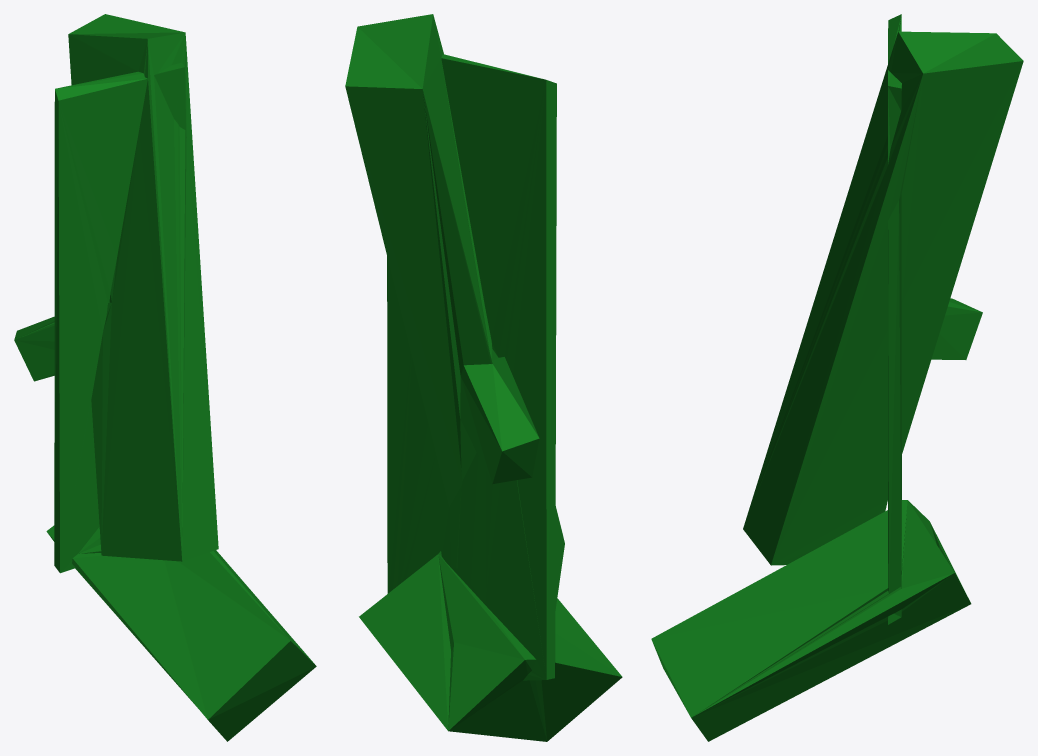
3 renders of one model, left to right at view 1: azimuth 30°, elevation 25°; view 2: azimuth 150°, elevation 25°; view 3: azimuth 270°, elevation 25°, orthographic. The views are drawn at different scales.
Parts seen in each view (by area): view 1: 727_Cube.2916; view 2: 727_Cube.2916; view 3: 727_Cube.2916.
Part boxes in pixels (<box>): 727_Cube.2916: <box>14,14,316,741</box>; 727_Cube.2916: <box>345,14,622,741</box>; 727_Cube.2916: <box>651,14,1023,741</box>.
Bounding box in the file's own units: 4.81 × 15.88 × 7.52.
